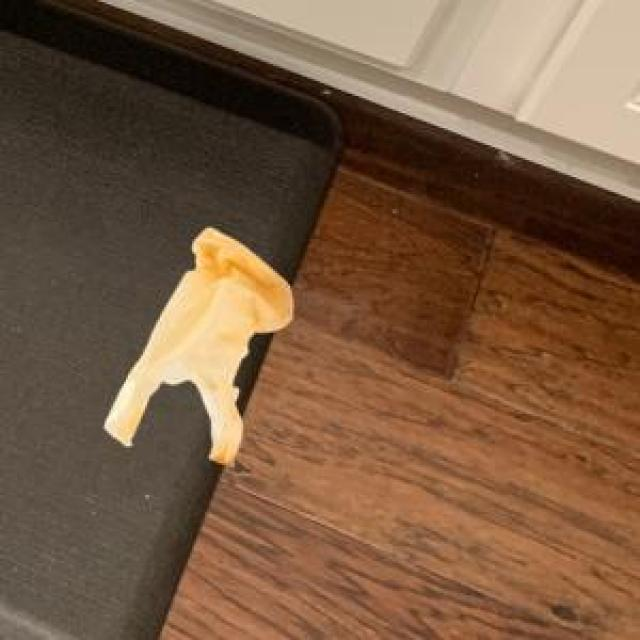plastic: (93, 217, 344, 473)
